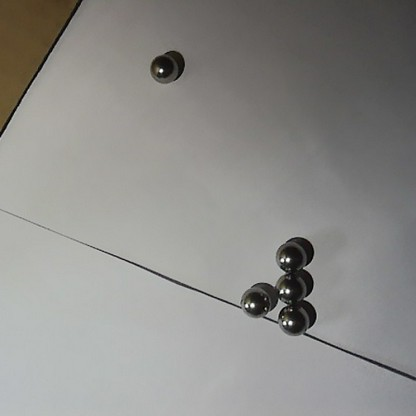ironball: (274, 301, 314, 341), (147, 49, 181, 86), (272, 273, 311, 304), (271, 238, 307, 271), (241, 286, 271, 320)
